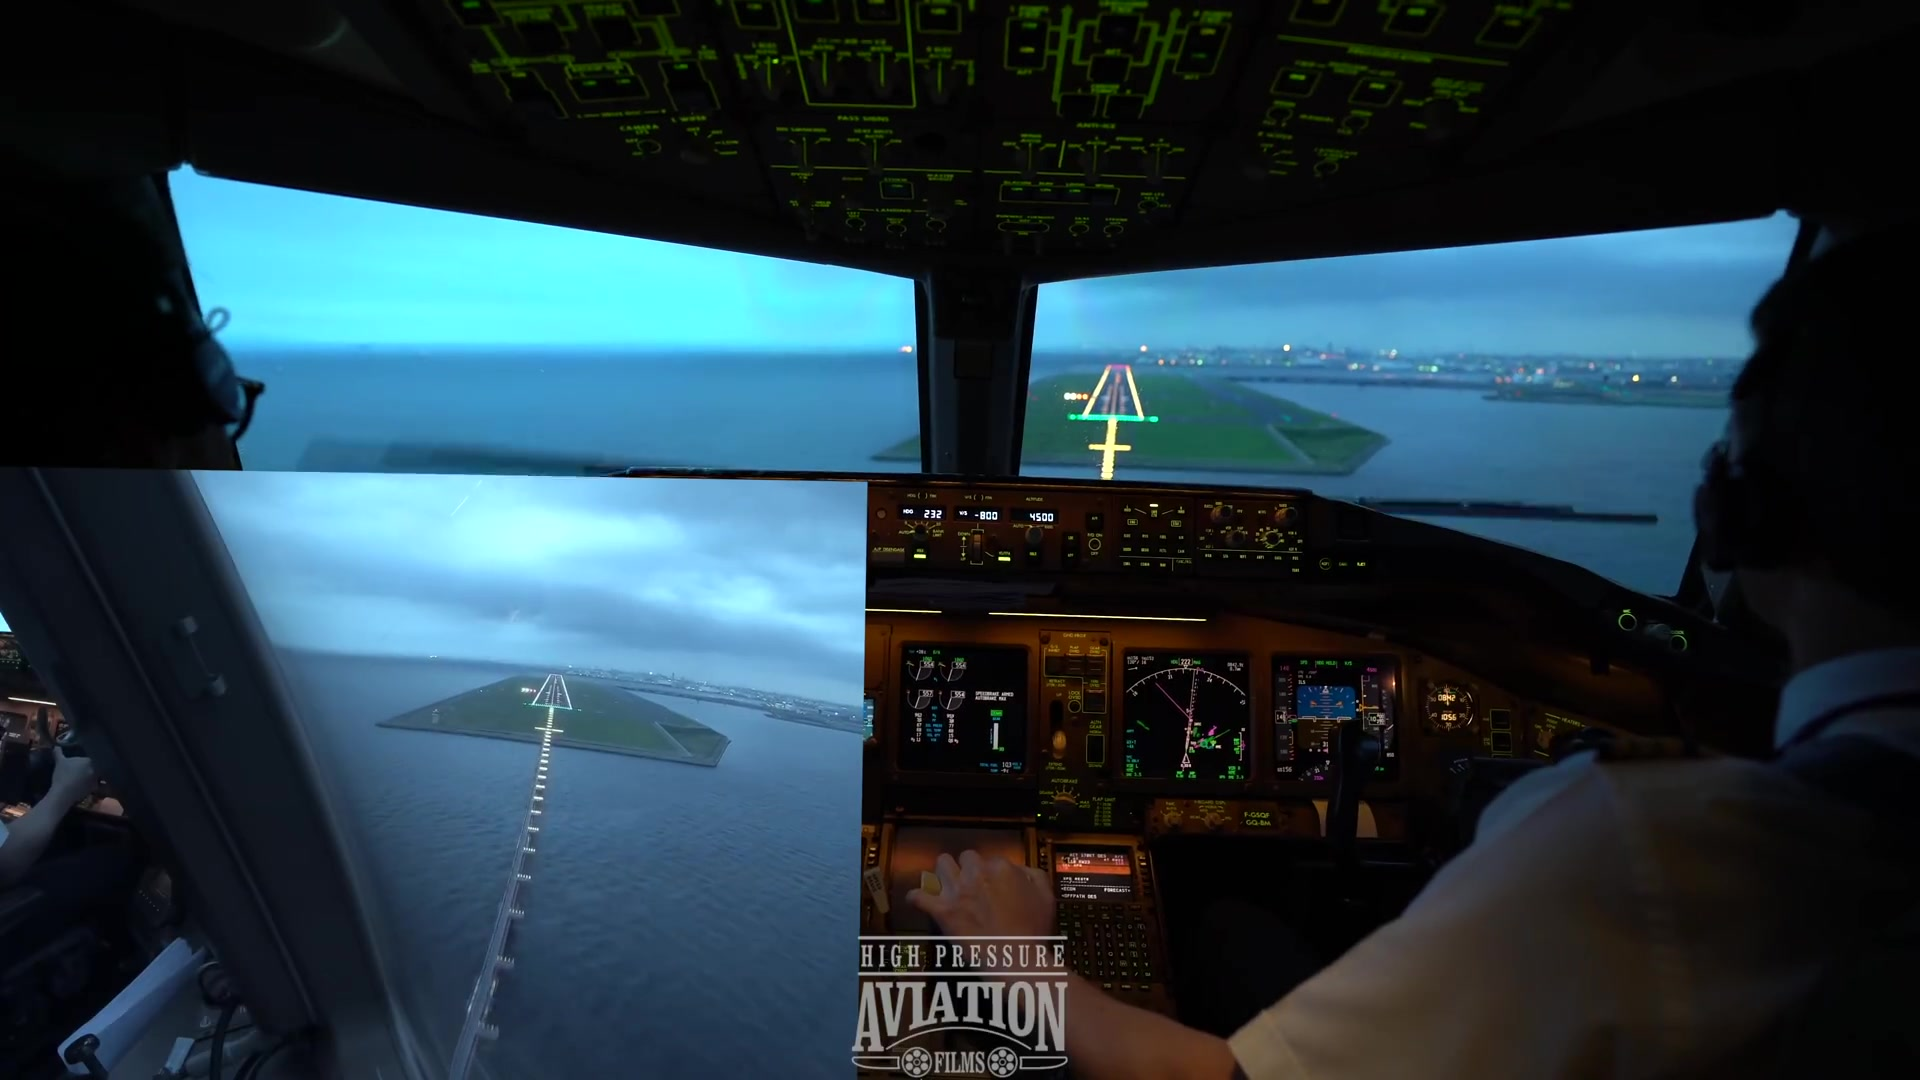runway: (1079, 360, 1146, 425), (533, 673, 574, 711)
